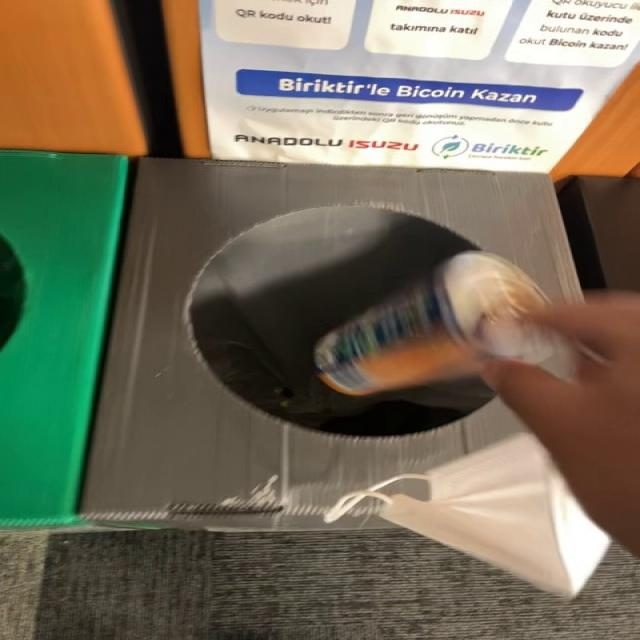bin: (81, 160, 579, 528)
metal: (313, 251, 561, 396)
